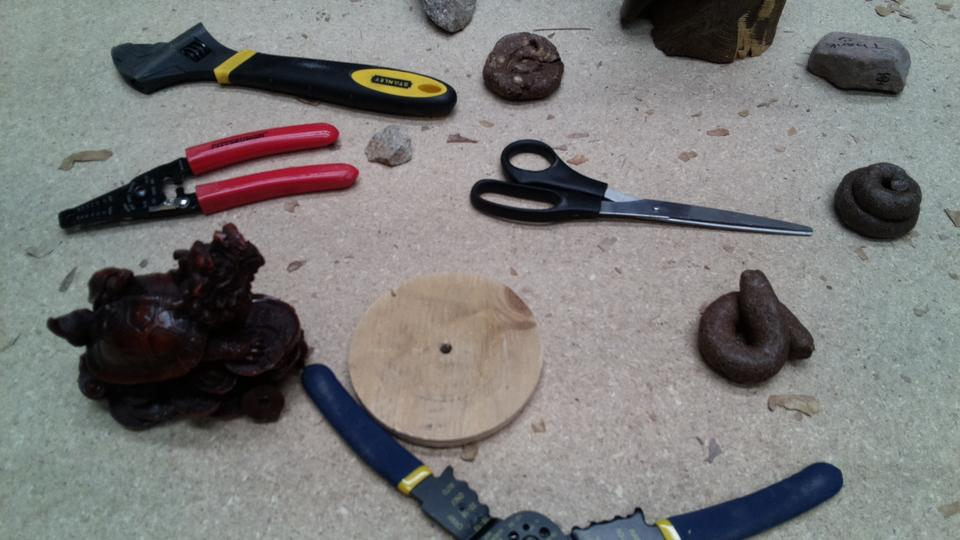poop: (691, 265, 819, 394), (830, 160, 926, 247), (479, 29, 565, 105)
